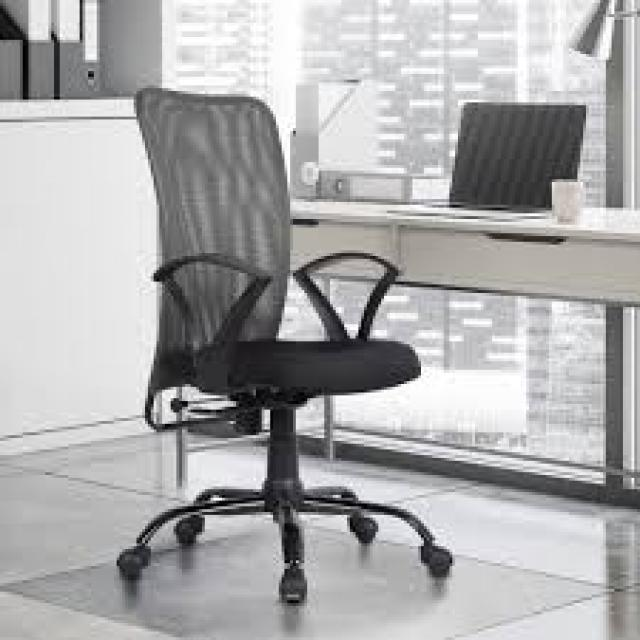chair: (120, 63, 483, 640)
